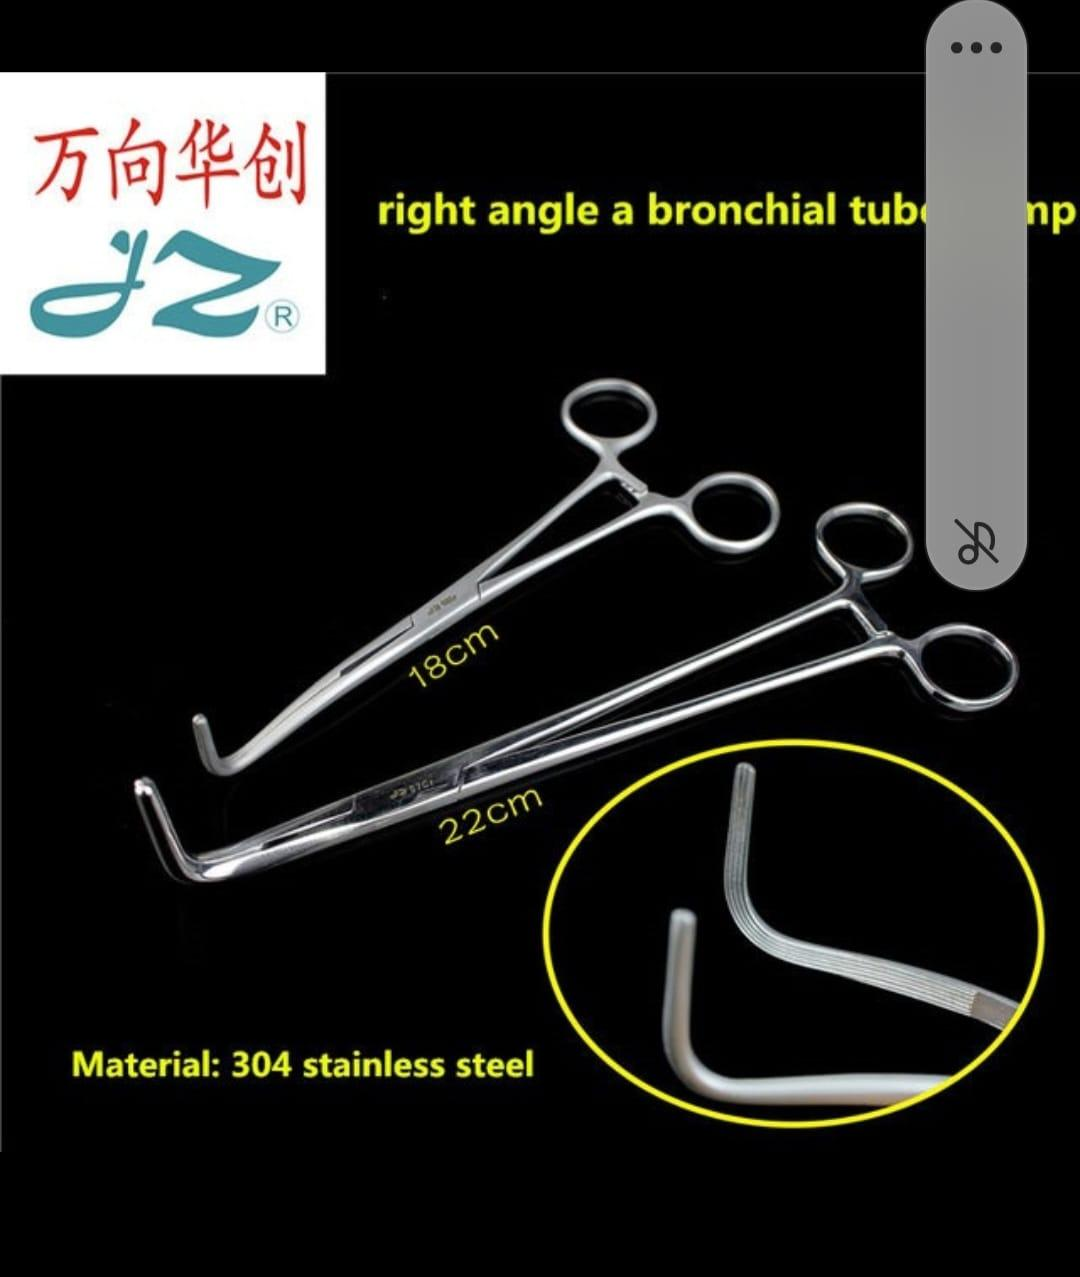Rectangle Cholecystectomy Forceps: (118, 486, 1014, 902), (174, 369, 790, 790)
